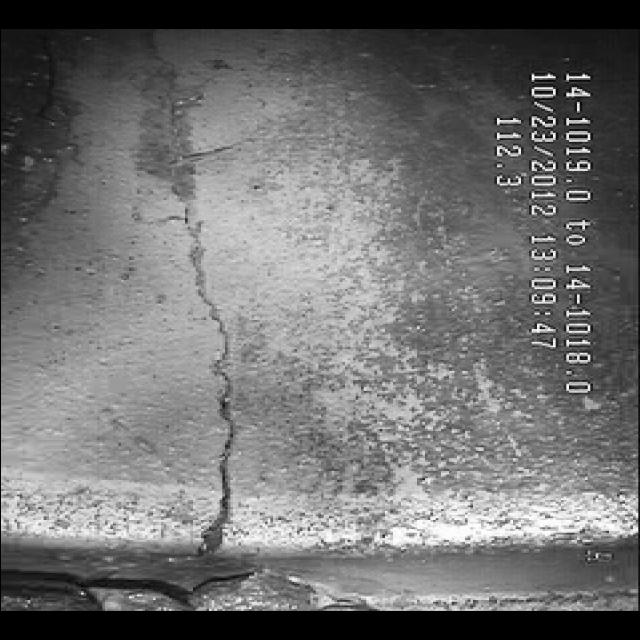Crack: (137, 178, 295, 522)
